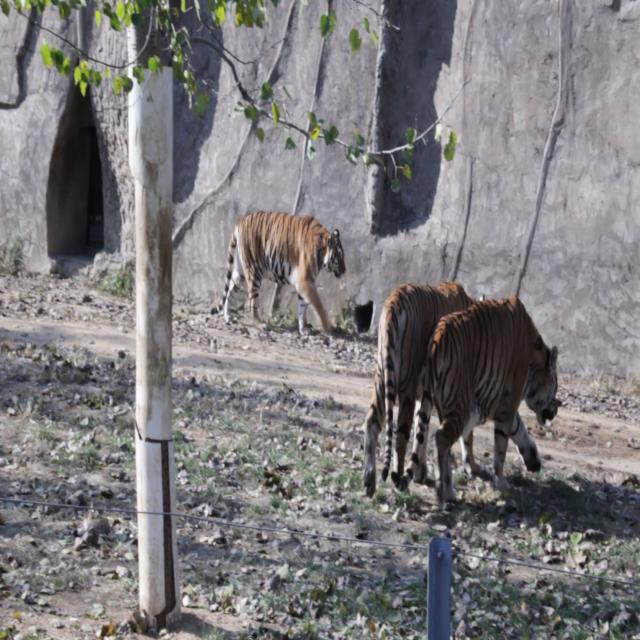Tiger: (420, 289, 564, 506), (356, 264, 478, 483), (204, 205, 352, 332)
